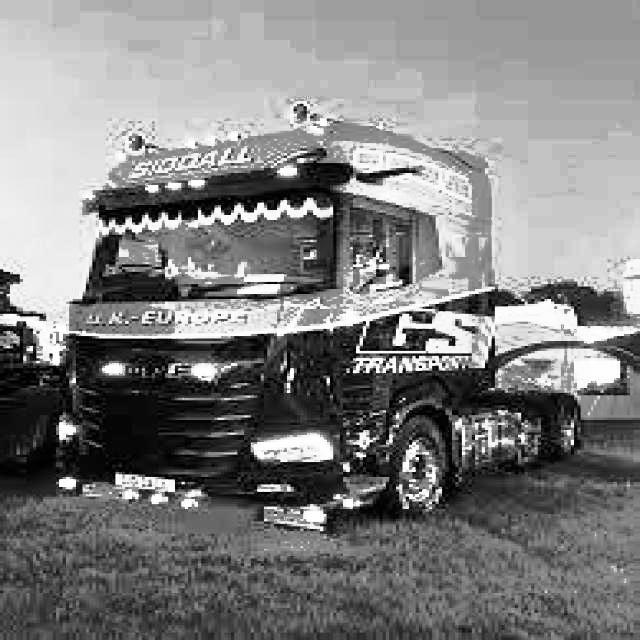Truck: (53, 99, 581, 524)
